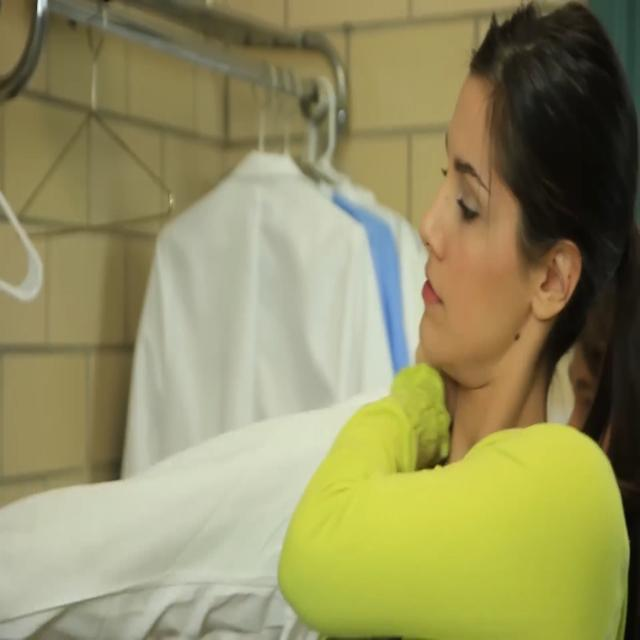dress: (274, 352, 639, 640)
labcoat: (0, 363, 409, 639), (118, 138, 396, 501), (292, 134, 438, 414)
